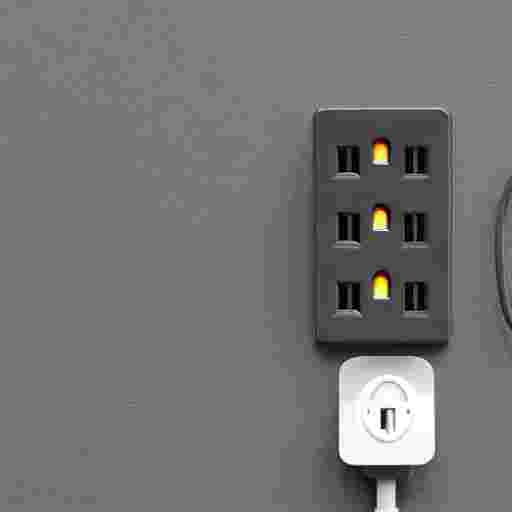power outlet: (314, 106, 453, 343), (338, 356, 435, 466), (495, 176, 511, 332)
